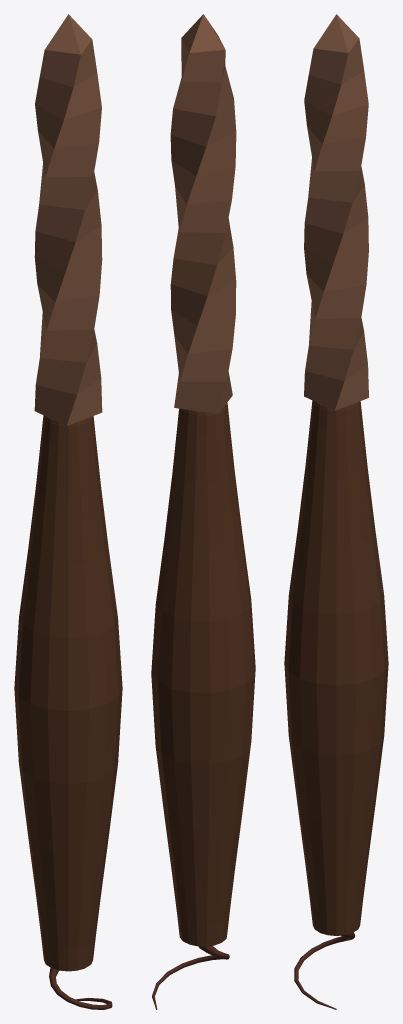
File: Wand 159.glb
3 renders of one model, left to right at view 1: azimuth 90°, elevation 25°; view 2: azimuth 210°, elevation 25°; view 3: azimuth 270°, elevation 25°, orthographic. The views are drawn at different scales.
Visible parts, largest first — view 1: GeneratedWand; view 2: GeneratedWand; view 3: GeneratedWand.
Part boxes in pixels (<box>): GeneratedWand: <box>14,14,122,1009</box>; GeneratedWand: <box>151,14,255,1009</box>; GeneratedWand: <box>284,14,388,1009</box>.
Bounding box in the file's own units: 0.0507 × 0.5135 × 0.0499.
